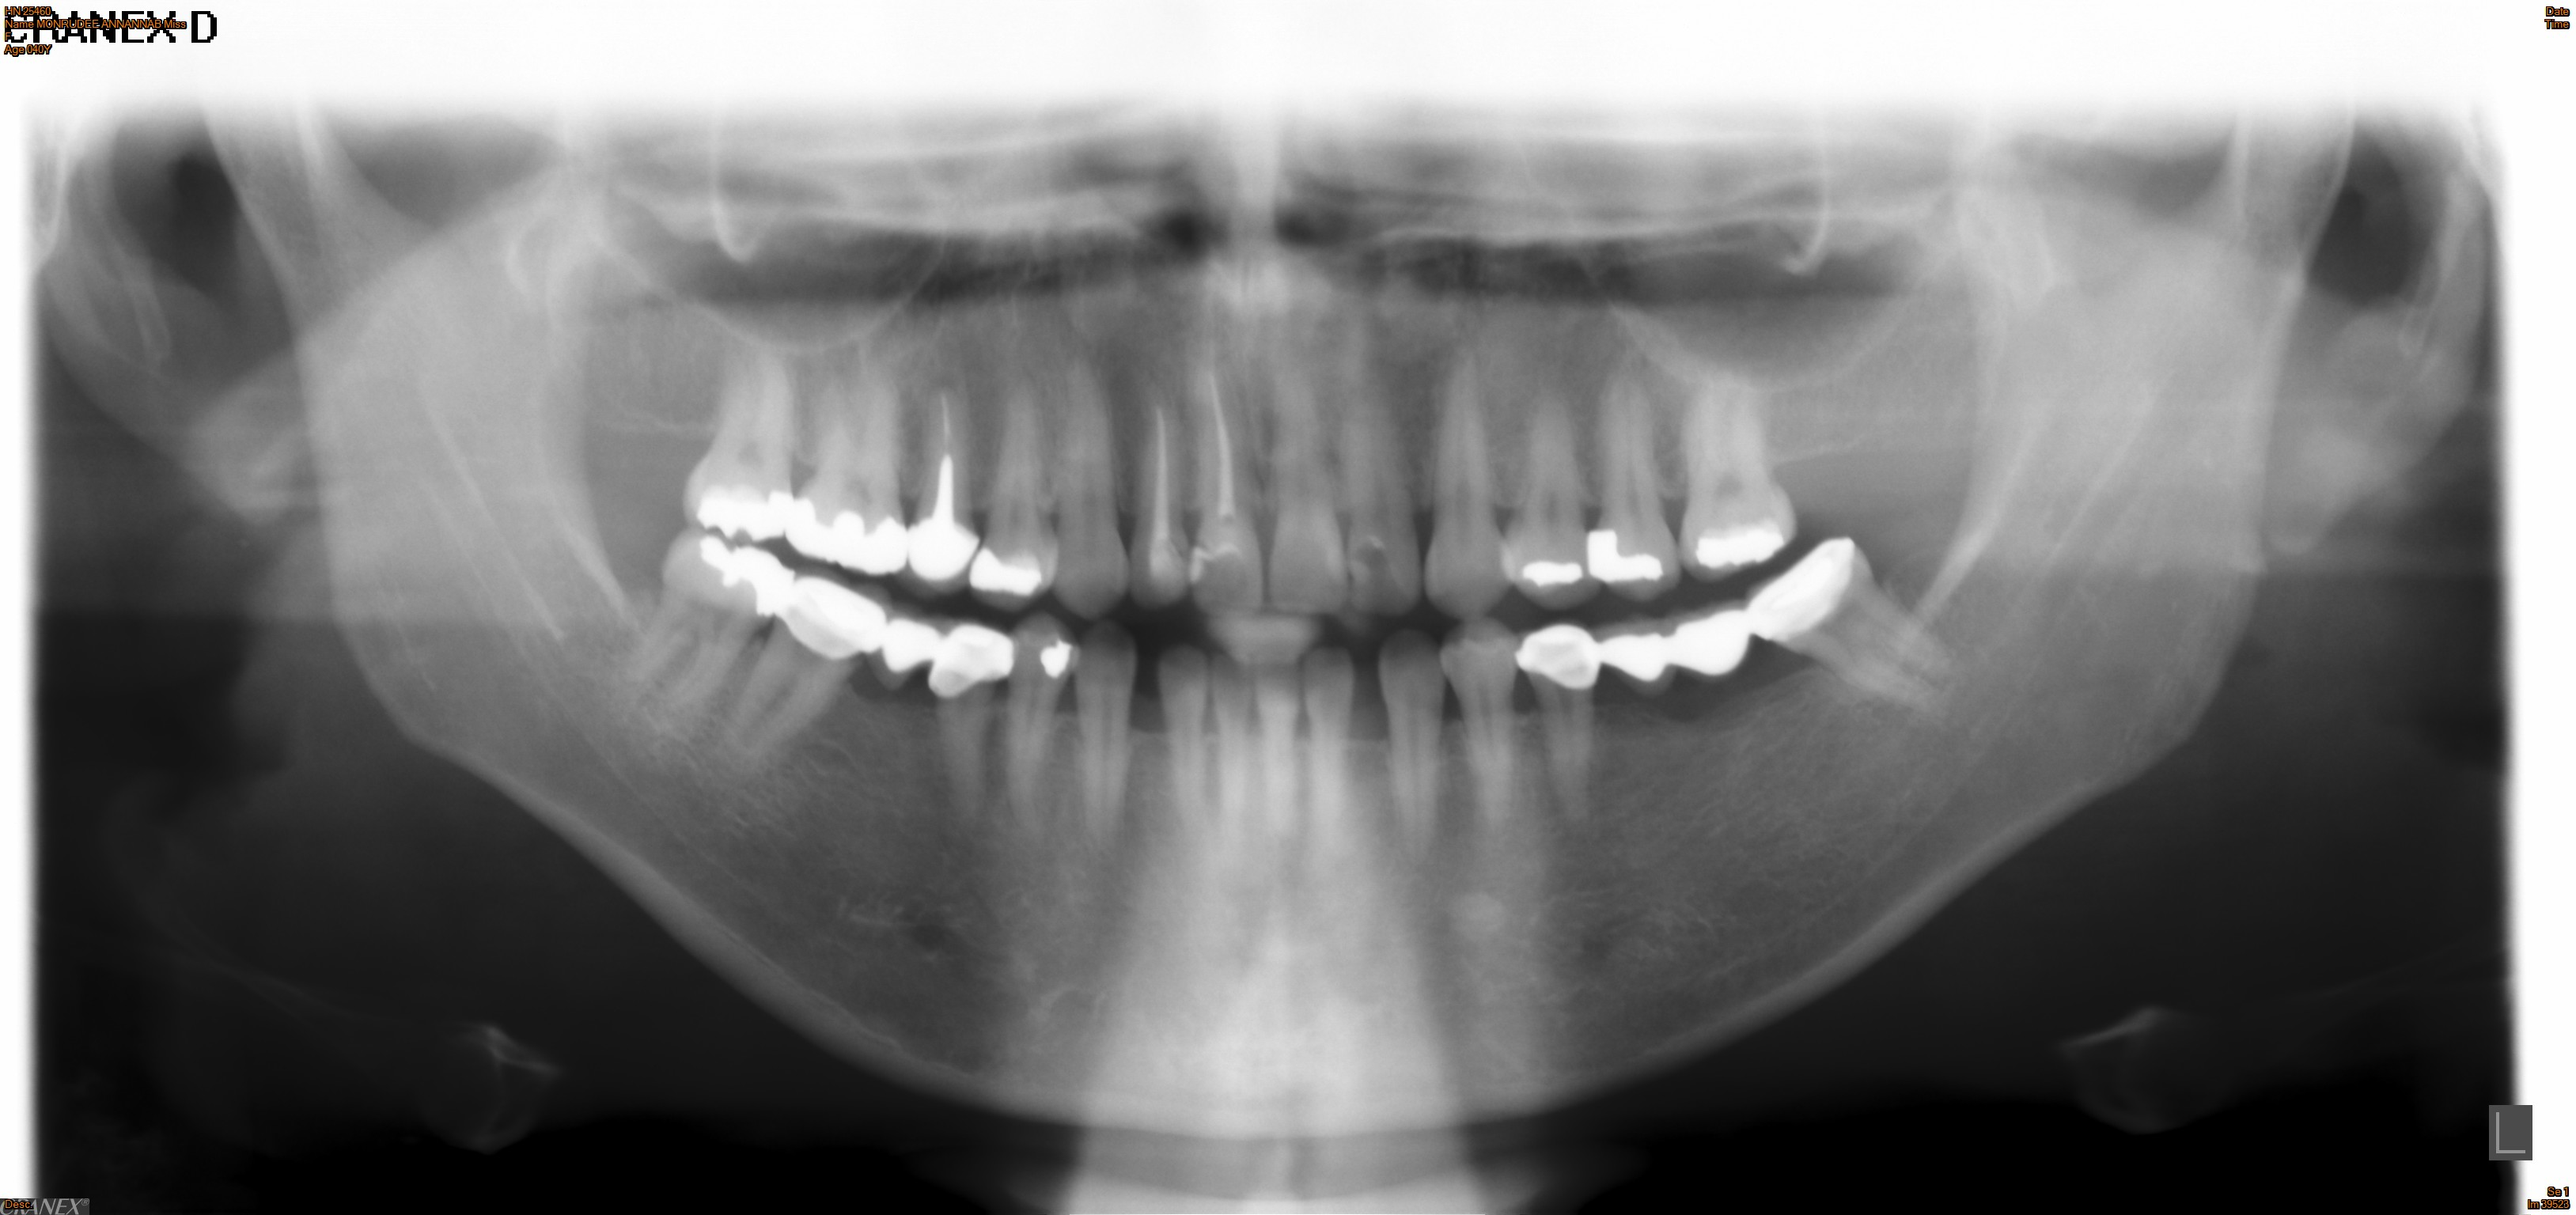periodontitis: (1702, 532, 1965, 724), (675, 335, 818, 547), (1510, 611, 1613, 832)
